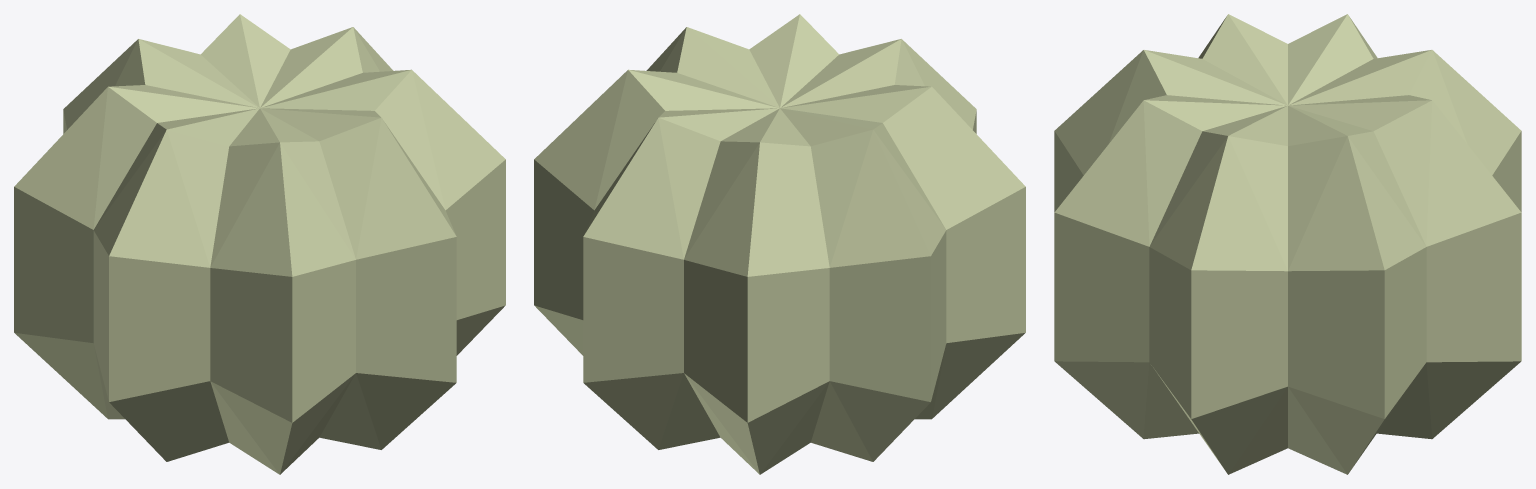
File: kaktussi03.fbx
The picture shows the model from 3 angles, left to right: view 1: azimuth 30°, elevation 25°; view 2: azimuth 150°, elevation 25°; view 3: azimuth 270°, elevation 25°; orthographic projection.
Parts seen in each view (by area): view 1: pSphere2; view 2: pSphere2; view 3: pSphere2.
Boxes of the visible parts, box(x1,y1,x2,y2) form: pSphere2: box(14, 14, 505, 474); pSphere2: box(534, 14, 1025, 474); pSphere2: box(1054, 14, 1521, 474).
Size of the model in its own units: 0.0176 by 0.0141 by 0.0176.
